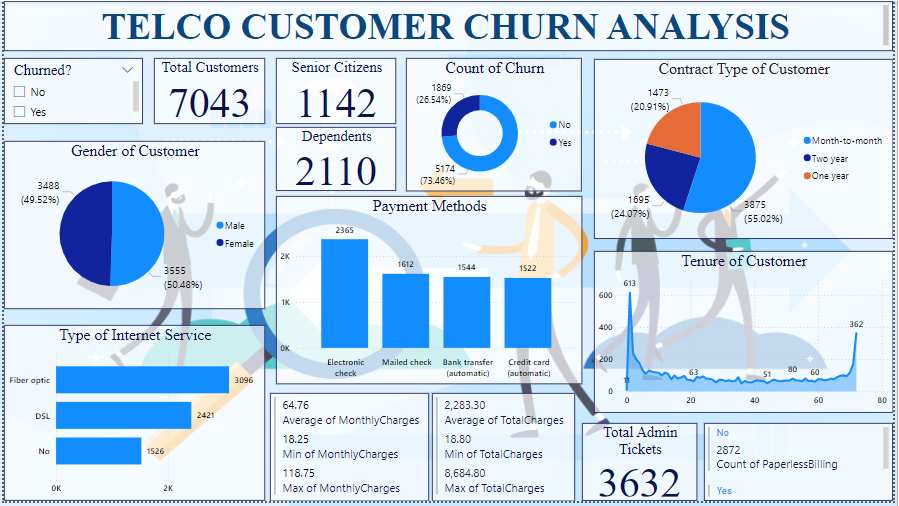

The page's visual inventory and layout, read from the dashboard file:
{"tool":"powerbi","page":{"name":"Page 1","canvas":[1280,720],"ordinal":0},"visuals":[{"type":"pieChart","title":"Gender of Customer","fields":{"Category":["01 Churn-Dataset.gender"],"Y":["CountNonNull(01 Churn-Dataset.customerID)"]},"box":[0,201.6,375.8,241.9],"z":0},{"type":"donutChart","title":"Count of Churn","fields":{"Category":["01 Churn-Dataset.Churn"],"Y":["CountNonNull(01 Churn-Dataset.Churn)"]},"box":[578.9,82.1,253.4,191.5],"z":1000},{"type":"card","title":"Total Customers","fields":{"Values":["CountNonNull(01 Churn-Dataset.Churn)"]},"box":[216.7,81.7,160,95],"z":2000},{"type":"card","title":"Senior Citizens","fields":{"Values":["Sum(01 Churn-Dataset.SeniorCitizen)"]},"box":[391.7,81.7,173.3,95],"z":3000},{"type":"barChart","title":"Type of Internet Service","fields":{"Category":["01 Churn-Dataset.InternetService"],"Y":["CountNonNull(01 Churn-Dataset.InternetService)"]},"box":[0,466.6,375.8,253.4],"z":4000},{"type":"pieChart","title":"Contract Type of Customer","fields":{"Category":["01 Churn-Dataset.Contract"],"Y":["CountNonNull(01 Churn-Dataset.Contract)"]},"box":[849.6,83.5,430.6,259.2],"z":5000},{"type":"multiRowCard","fields":{"Values":["01 Churn-Dataset.PaperlessBilling","CountNonNull(01 Churn-Dataset.PaperlessBilling)"]},"box":[1008,607.7,272.2,112.3],"z":6000},{"type":"columnChart","title":"Payment Methods","fields":{"Category":["01 Churn-Dataset.PaymentMethod"],"Y":["CountNonNull(01 Churn-Dataset.PaymentMethod)"]},"box":[391.7,280.8,440.6,270.7],"z":7000},{"type":"slicer","fields":{"Values":["01 Churn-Dataset.Churn"]},"box":[0,81.7,200,95],"z":8000},{"type":"areaChart","title":"Tenure of Customer","fields":{"Category":["01 Churn-Dataset.tenure"],"Y":["CountNonNull(01 Churn-Dataset.tenure)"]},"box":[849.6,360,430.6,233.3],"z":9000},{"type":"multiRowCard","fields":{"Values":["Avg(01 Churn-Dataset.MonthlyCharges)","Min(01 Churn-Dataset.MonthlyCharges)","Max(01 Churn-Dataset.MonthlyCharges)1"]},"box":[383,564.5,229,155.5],"z":10000},{"type":"multiRowCard","fields":{"Values":["Avg(01 Churn-Dataset.TotalCharges)","Min(01 Churn-Dataset.TotalCharges)","Max(01 Churn-Dataset.TotalCharges)"]},"box":[616.3,564.5,205.9,155.5],"z":11000},{"type":"textbox","box":[0,0,1280.2,72],"z":12000},{"type":"card","title":"Dependents","fields":{"Values":["CountNonNull(01 Churn-Dataset.Dependents)"]},"box":[391.7,181.4,172.8,92.2],"z":13000},{"type":"card","title":"Total Admin Tickets","fields":{"Values":["Sum(01 Churn-Dataset.numAdminTickets)"]},"box":[832.3,607.7,165.6,112.3],"z":14000}]}

Visuals, with their boxes in screenshot pixels (x1, y1, x2, y2), scaled from the page's 1280x720 canvas onto the 899x506 screenshot:
"Gender of Customer" pieChart: region(0, 142, 264, 312)
"Count of Churn" donutChart: region(407, 58, 585, 192)
"Total Customers" card: region(152, 57, 265, 124)
"Senior Citizens" card: region(275, 57, 397, 124)
"Type of Internet Service" barChart: region(0, 328, 264, 505)
"Contract Type of Customer" pieChart: region(597, 59, 898, 241)
multiRowCard - 01 Churn-Dataset.PaperlessBilling x CountNonNull(01 Churn-Dataset.PaperlessBilling): region(708, 427, 898, 505)
"Payment Methods" columnChart: region(275, 197, 585, 388)
slicer - 01 Churn-Dataset.Churn: region(0, 57, 140, 124)
"Tenure of Customer" areaChart: region(597, 253, 898, 417)
multiRowCard - Avg(01 Churn-Dataset.MonthlyCharges) x Min(01 Churn-Dataset.MonthlyCharges): region(269, 397, 430, 505)
multiRowCard - Avg(01 Churn-Dataset.TotalCharges) x Min(01 Churn-Dataset.TotalCharges): region(433, 397, 577, 505)
textbox: region(0, 0, 898, 51)
"Dependents" card: region(275, 127, 396, 192)
"Total Admin Tickets" card: region(585, 427, 701, 505)
